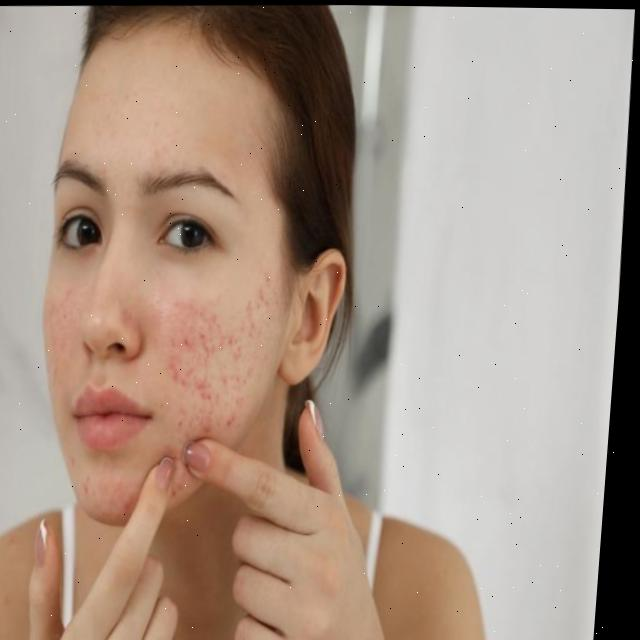Acne: (167, 294, 267, 443), (28, 302, 80, 366), (69, 463, 128, 505)
